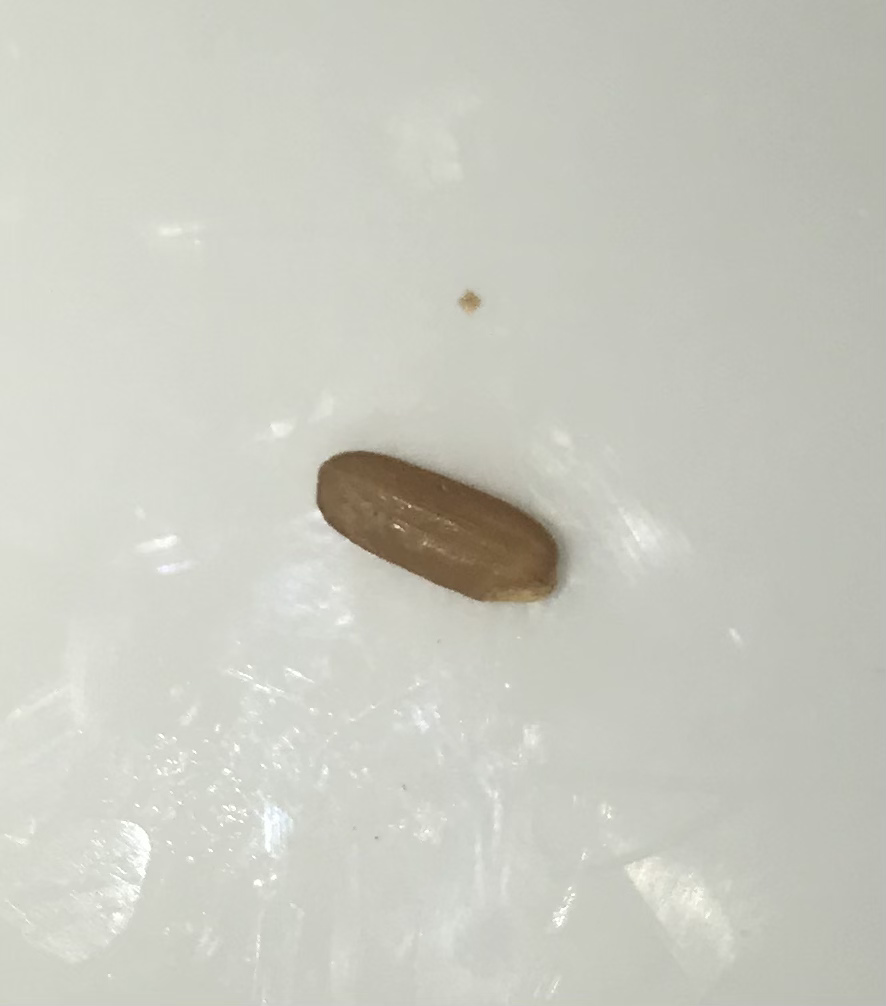Gao Lut Dien Bien: (292, 430, 576, 610)
